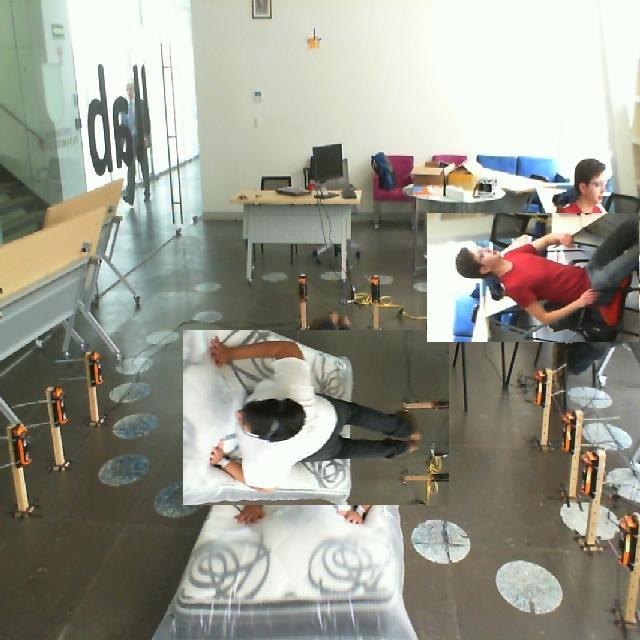Fall: (197, 334, 415, 542)
NotFall: (425, 153, 640, 359)
